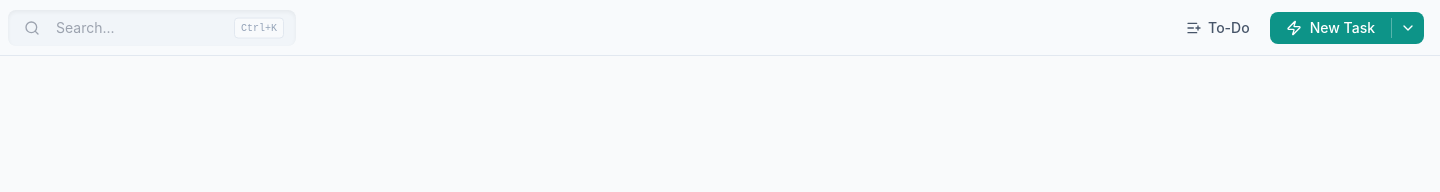
Test: GlobalHeader desktop toolbar › closes the creation menu on Escape
Click the button named "More creation options".
click(1408, 28)  # box x1=1392 y1=12 x2=1424 y2=44
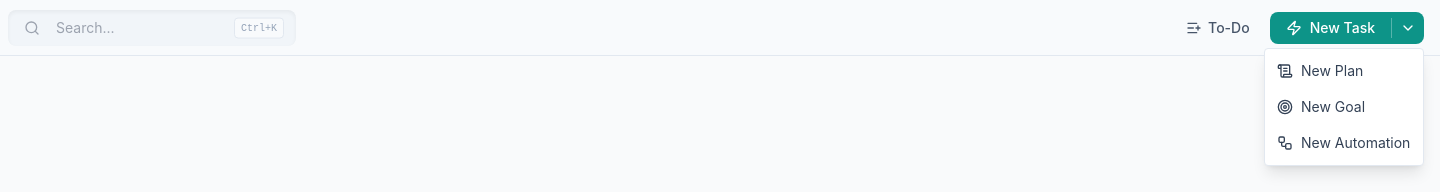
Expected: the menu named "More creation options" is shown, x1=1264 y1=48 x2=1424 y2=166
Expected: the menu item "New Plan" is shown, x1=1269 y1=52 x2=1419 y2=88
Expected: the menu item "New Goal" is shown, x1=1269 y1=88 x2=1419 y2=124
Press Escape
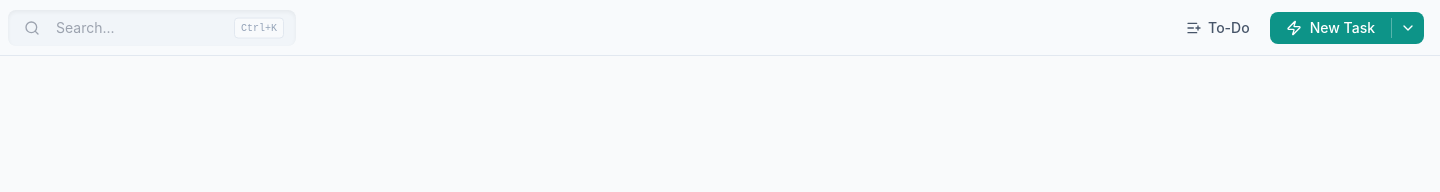
Expected: the menu is gone
